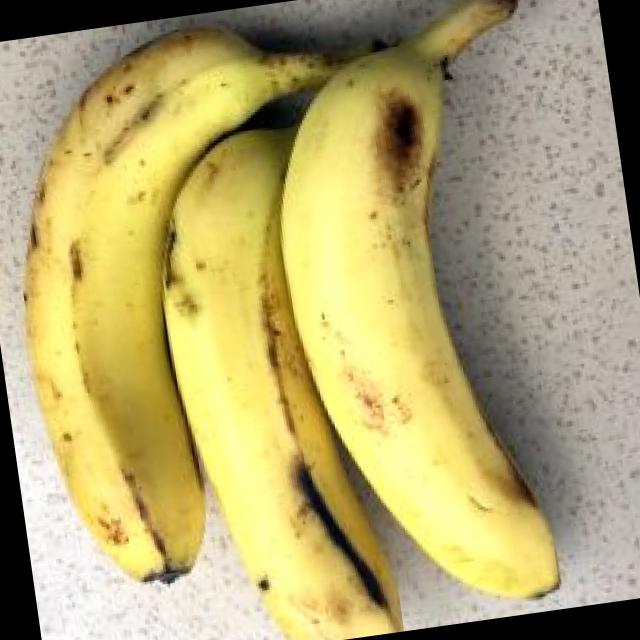banana: (120, 62, 560, 459)
